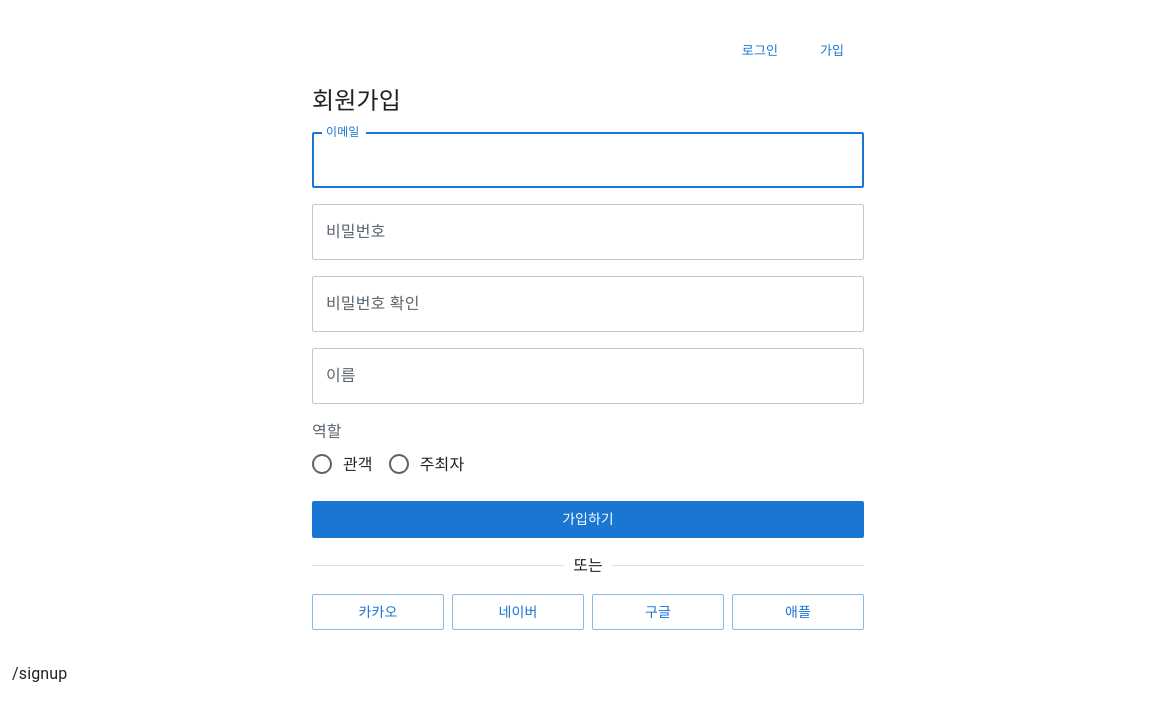
Scenario: TASK-010 이메일 회원가입/로그인 화면 › SC-04 (error) 비밀번호 확인이 다르면 제출 전에 인라인 오류를 보인다
The image size is (1164, 720).
Type "hong@example.com" into the field labelled "이메일" at coordinates (588, 160), box [312, 132, 864, 188]
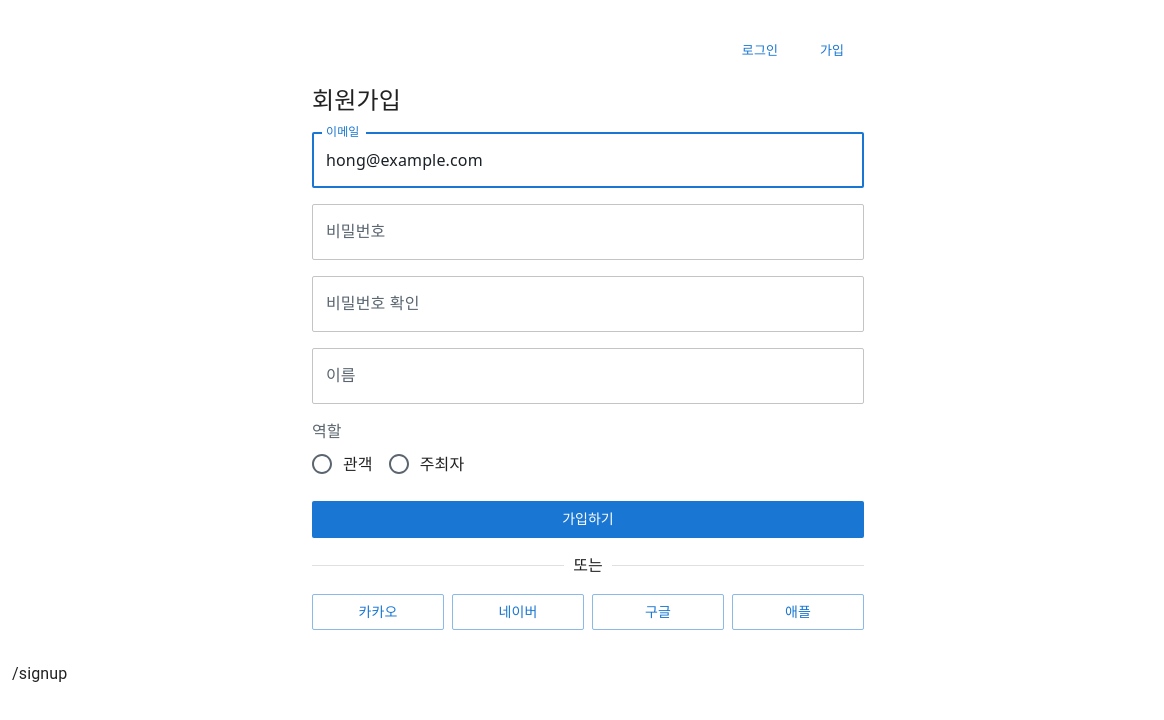
Type "password1!" into the password field labelled "비밀번호" at coordinates (588, 232), box [312, 204, 864, 260]
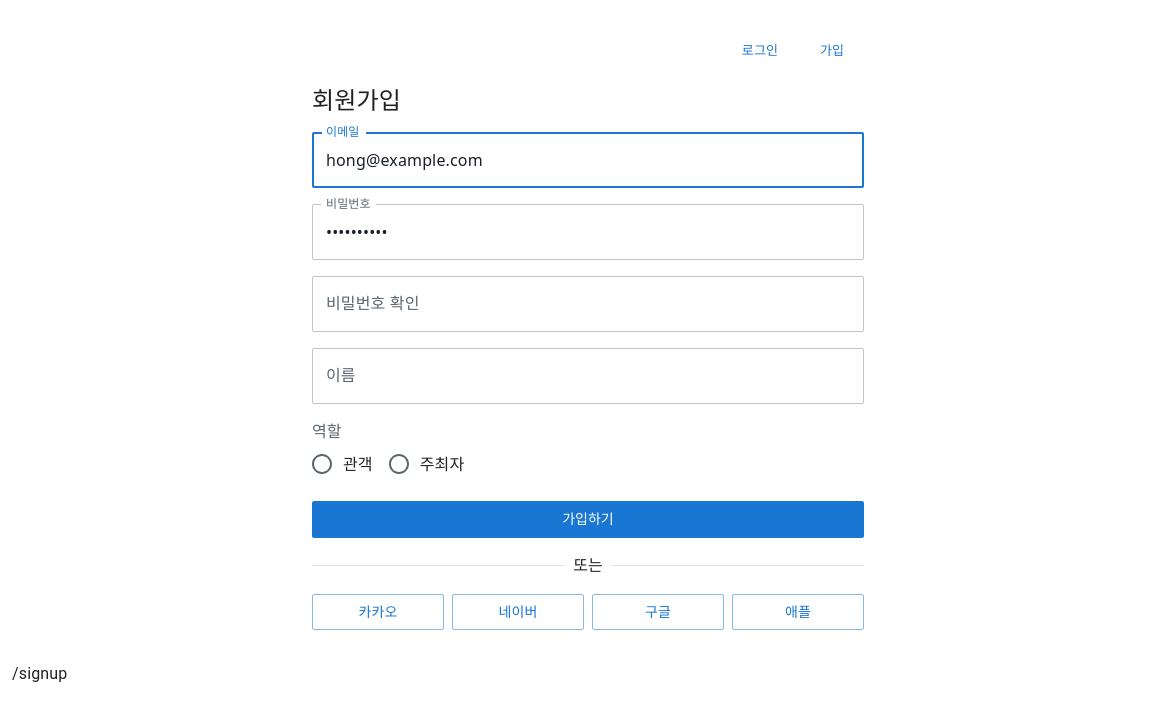
Type "password2!" into the password field labelled "비밀번호 확인" at coordinates (588, 304), box [312, 276, 864, 332]
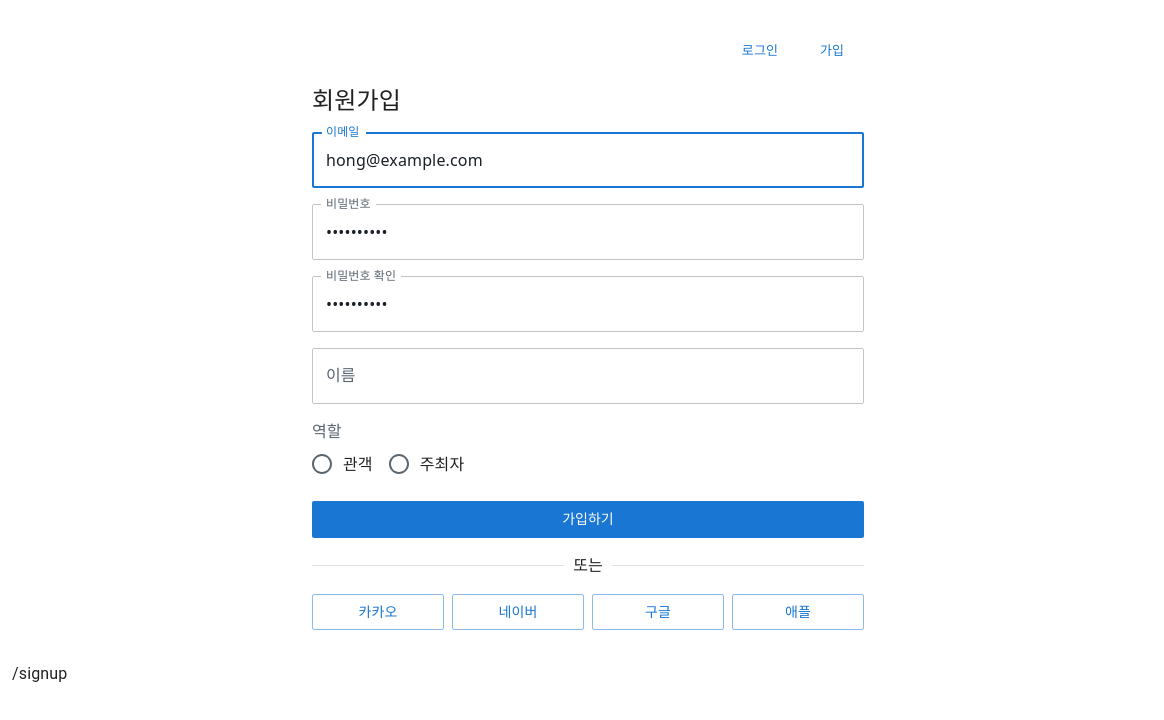
Type "홍길동" into the field labelled "이름" at coordinates (588, 376), box [312, 348, 864, 404]
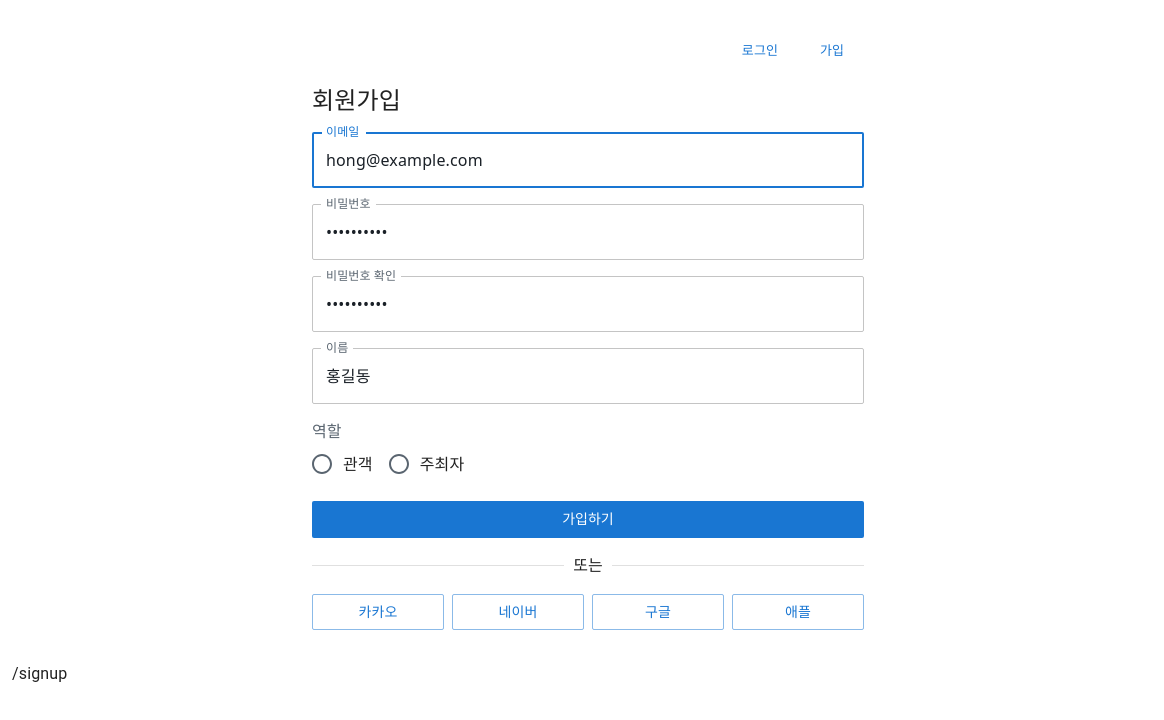
Click the radio button labelled "주최자" at coordinates (426, 464), box [387, 452, 464, 476]
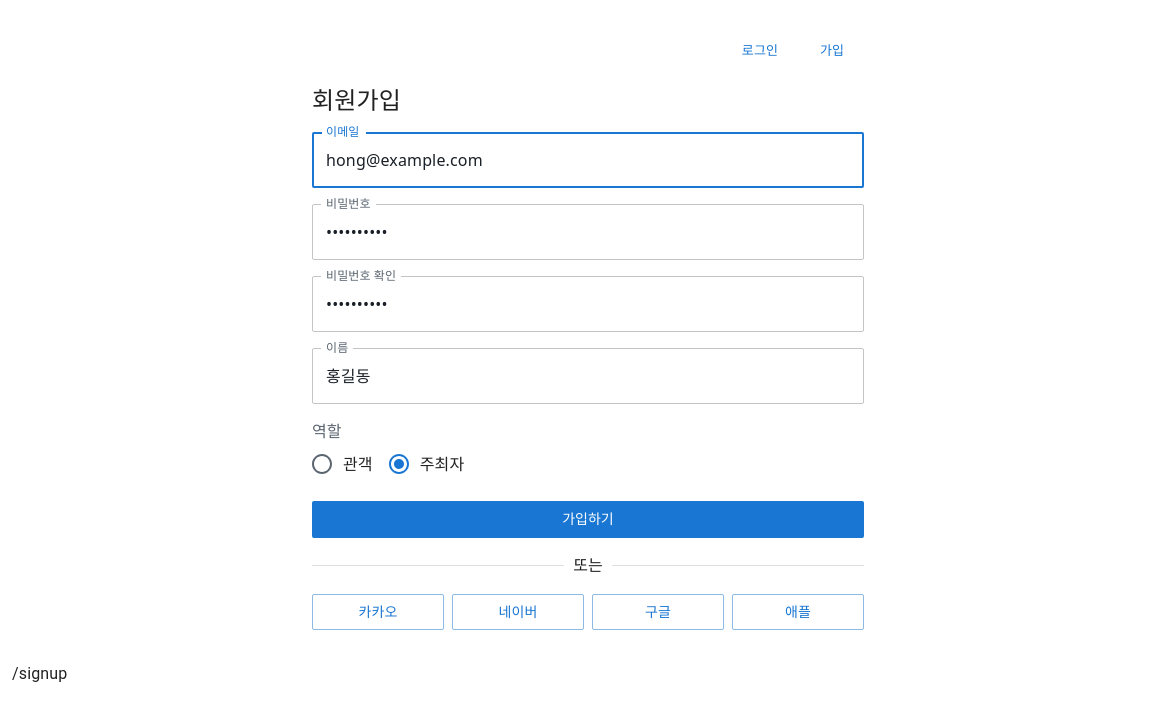
Click the button "가입하기" at coordinates (588, 520), box [312, 501, 864, 538]
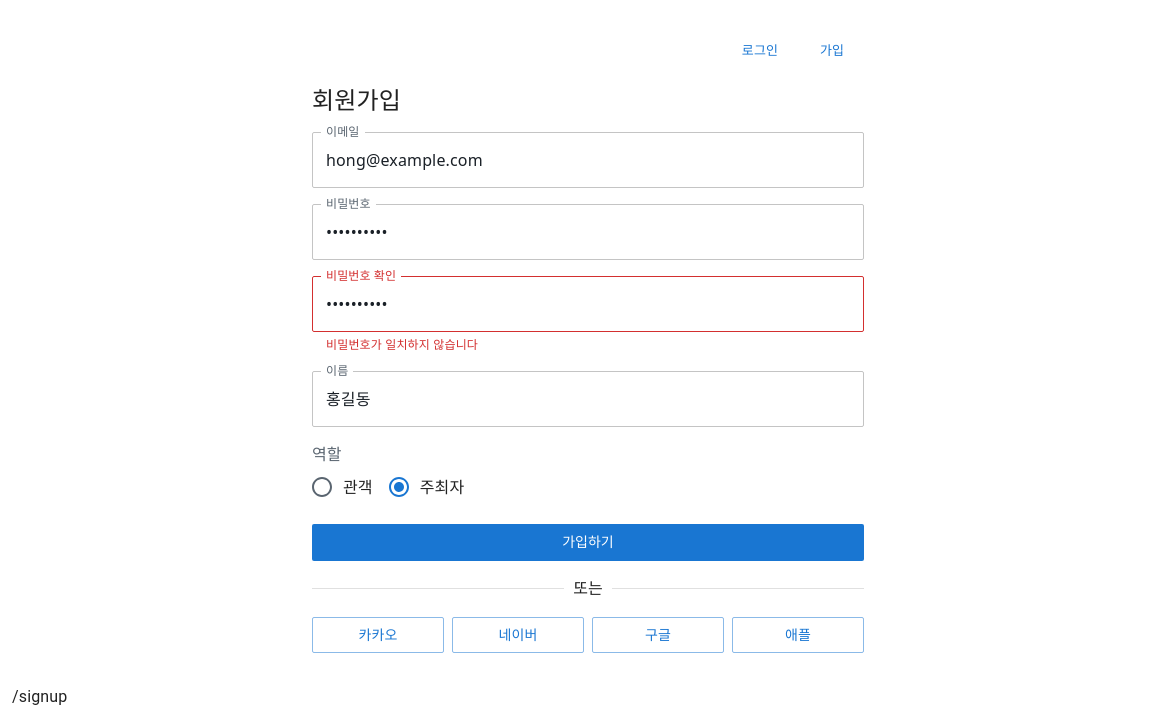
Expected: the text with test id "where" reads "/signup", [12, 687, 67, 706]
Now the text "비밀번호가 일치하지 않습니다" is shown, box [326, 336, 478, 353]
